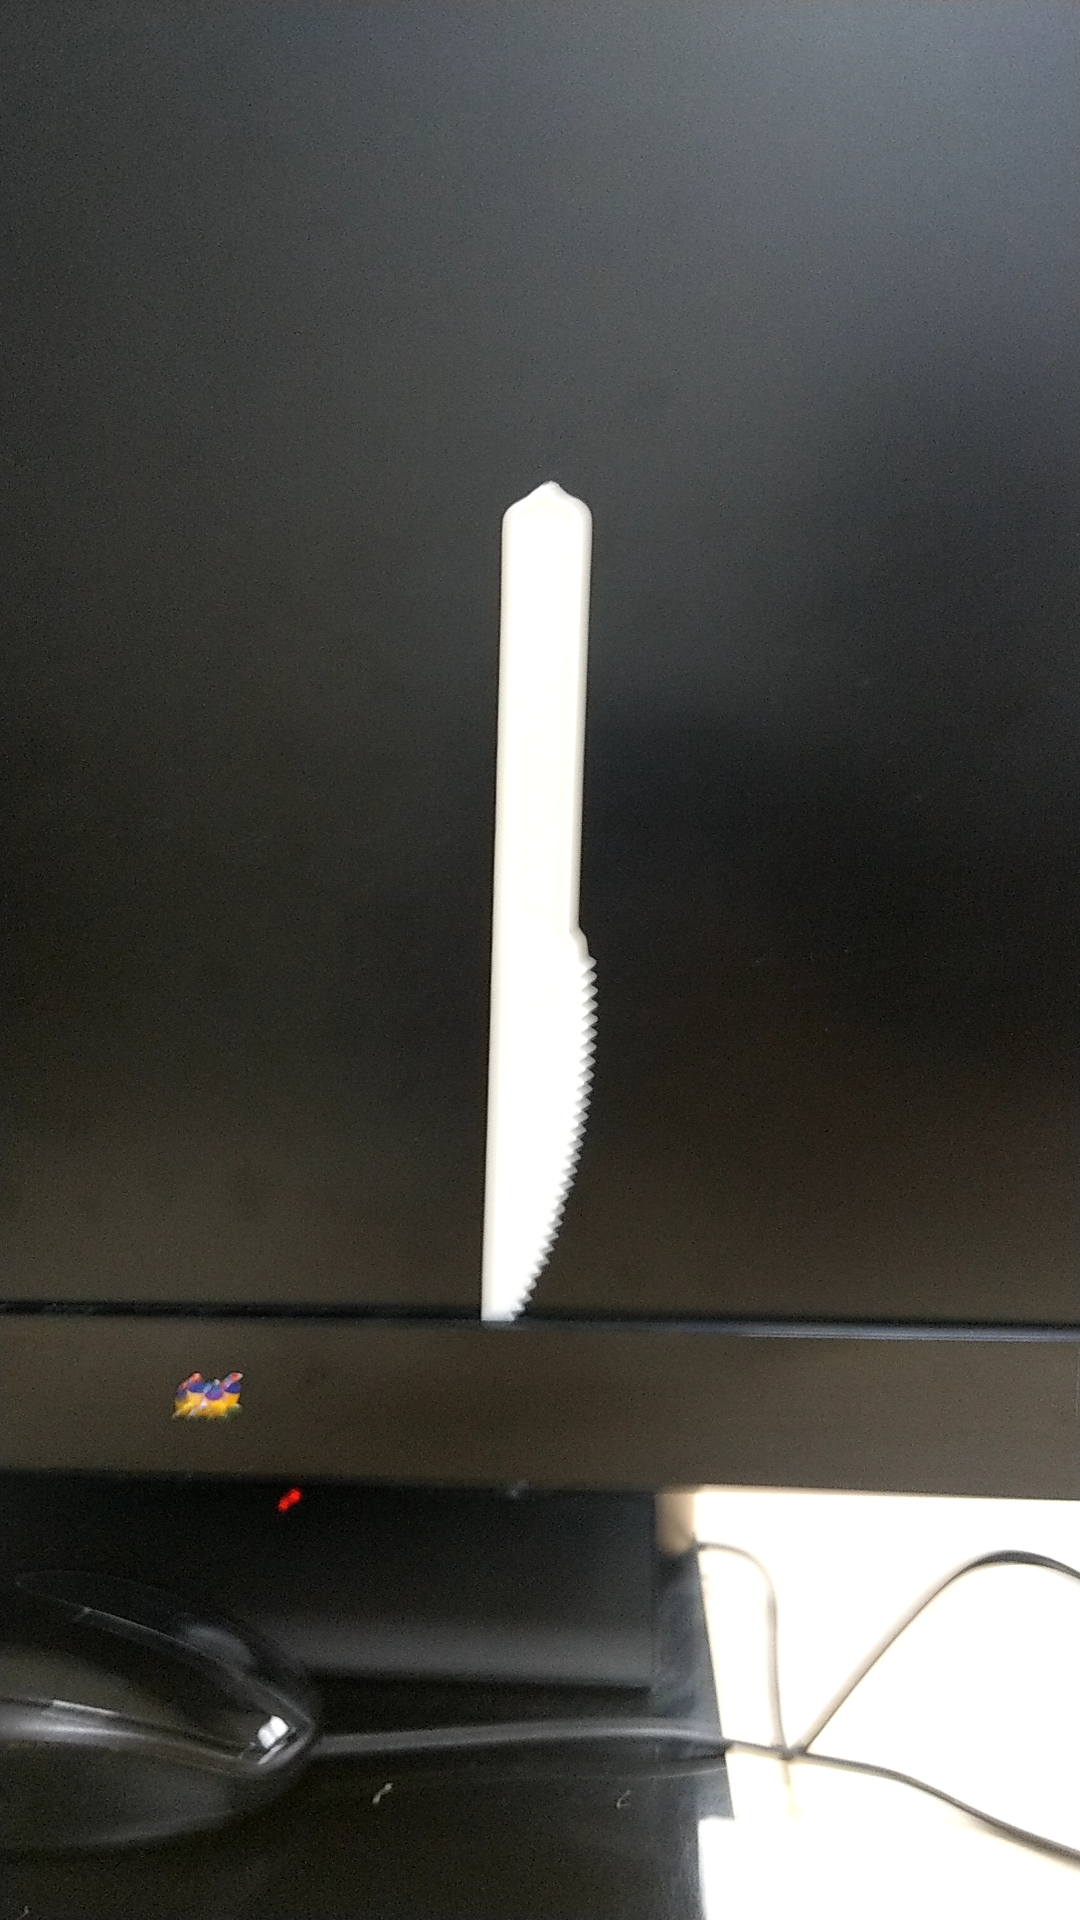knife: (444, 464, 630, 1325)
